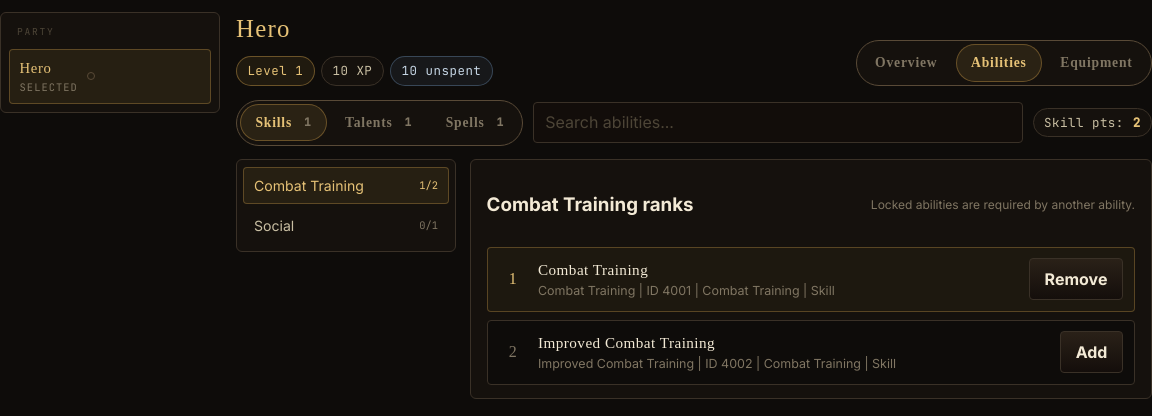
Test case: CharacterPanel abilities tab › renders ability kind tabs and switches the active rank ladder
Expected: the navigation bar named "Ability lists" is shown, [236,100,524,146]
Expected: the heading "Combat Training ranks" is shown, [487,192,694,219]
Click the button "Talents 1". click: (379, 123)
box: [330,104,427,141]
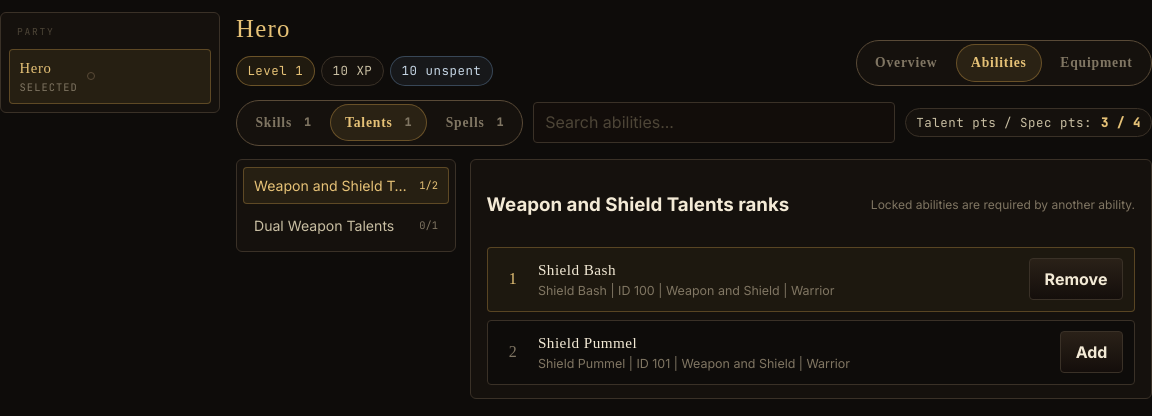
Result: the heading "Weapon and Shield Talents ranks" is shown at [487,192,789,219]
Result: the heading "Combat Training ranks" is gone
